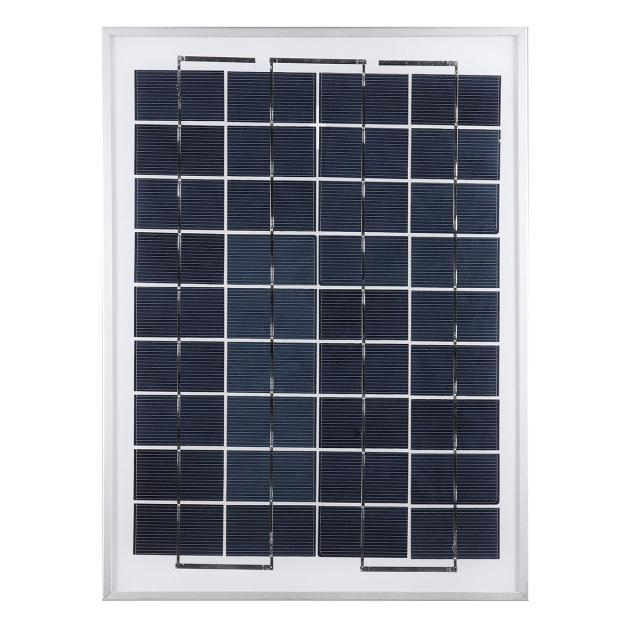no faulty: (104, 28, 528, 602)
